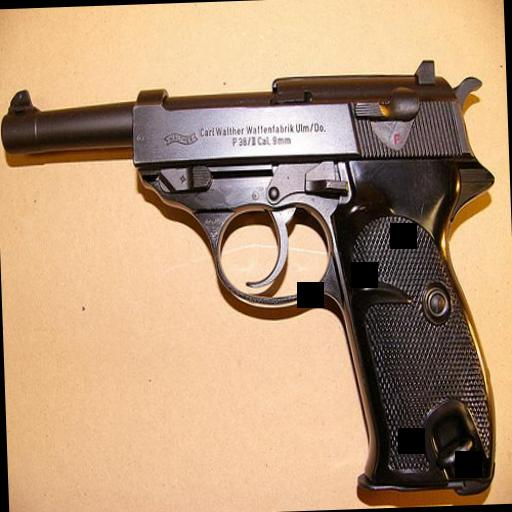Handgun: (0, 56, 501, 507)
